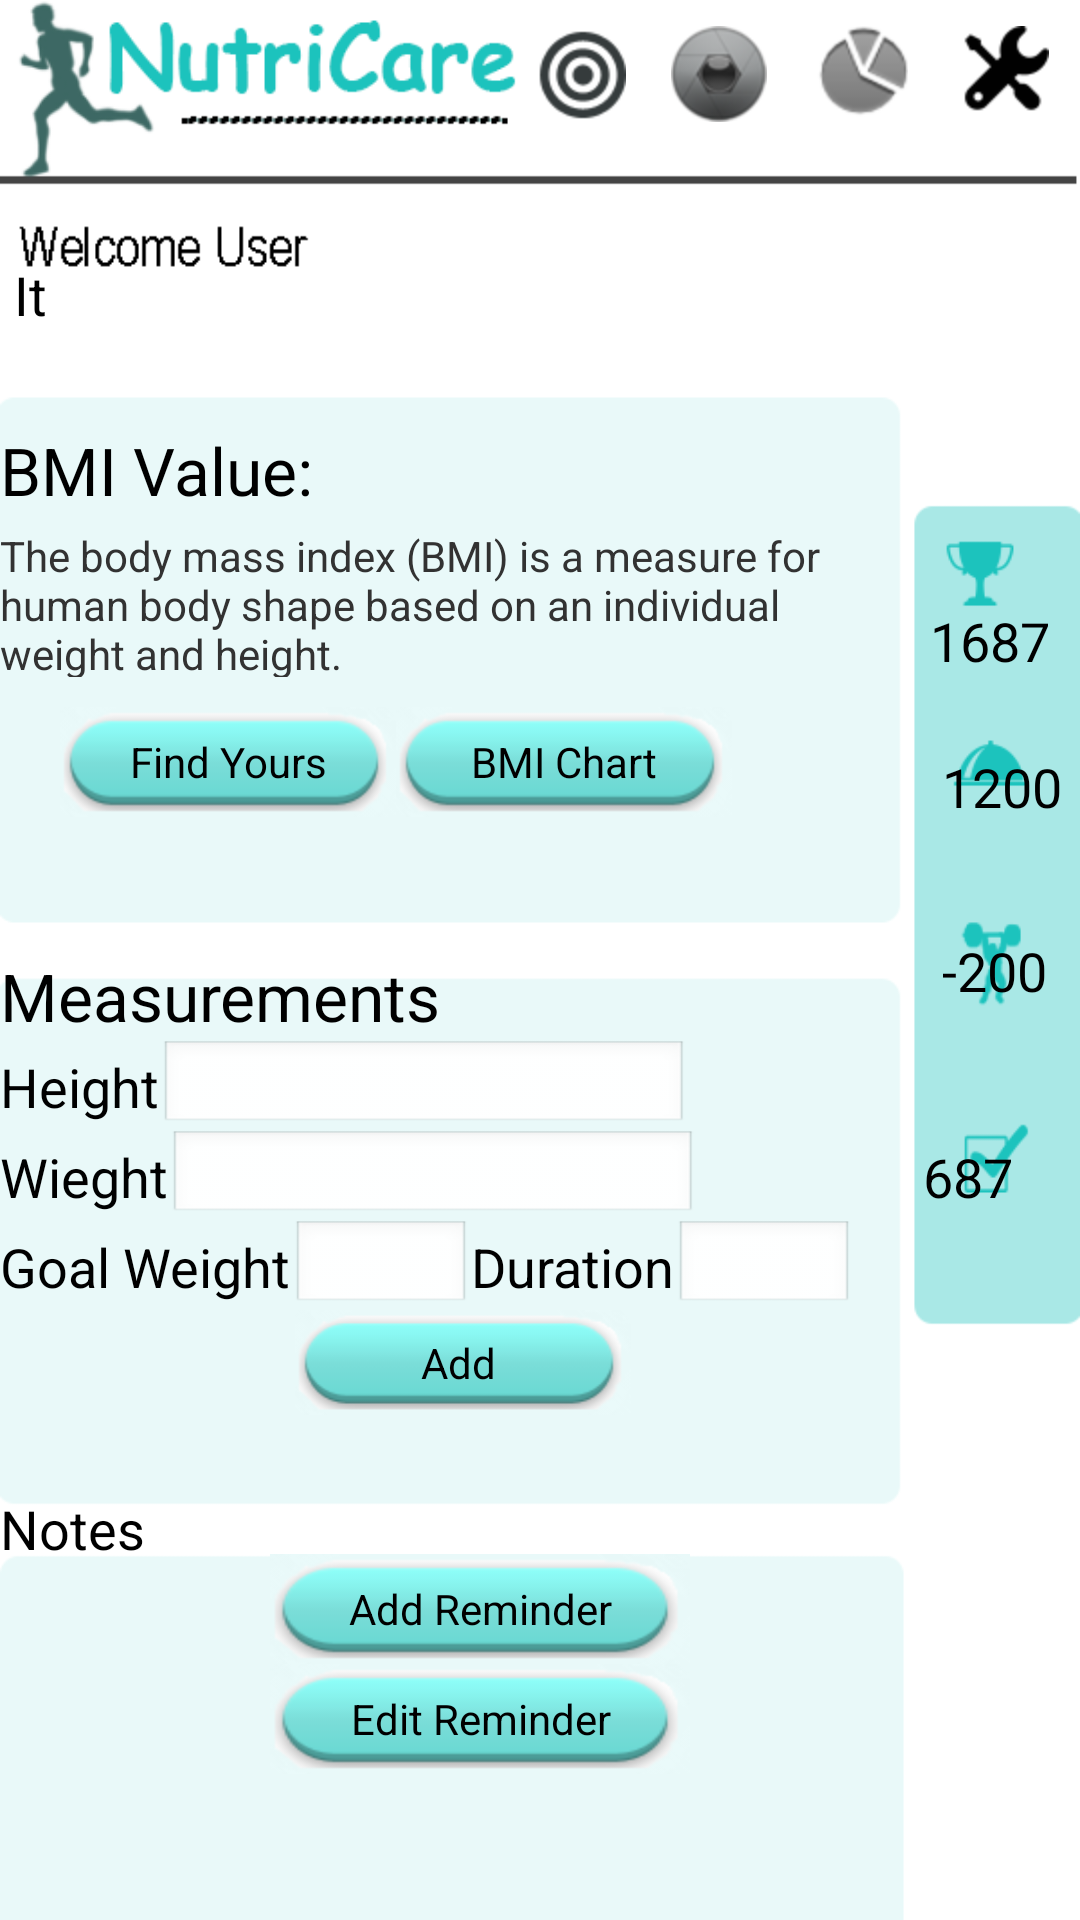

Named icons in this screenshot (1080 x 1920) and their centers, point (x, y):
cam: point (719, 74)
chart: point (864, 70)
goal: point (582, 75)
setting: point (1006, 68)
